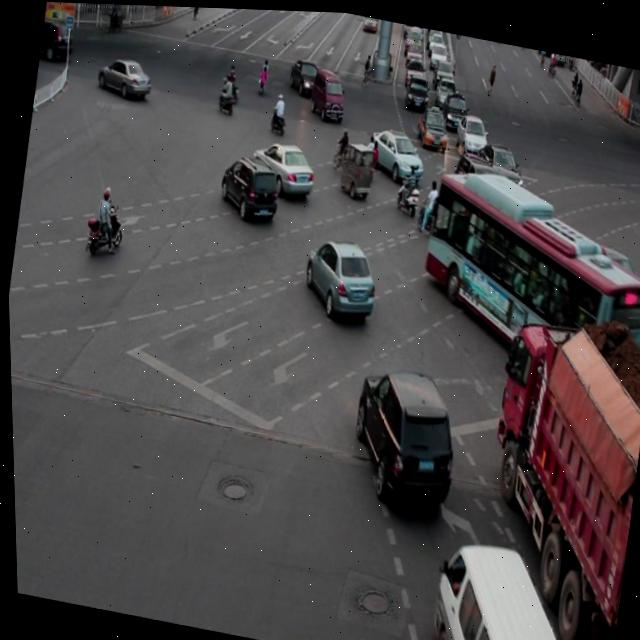bus: (460, 311, 640, 640)
car: (340, 355, 464, 508), (297, 230, 381, 322), (572, 232, 640, 310), (215, 149, 282, 223), (248, 135, 317, 198), (447, 148, 504, 211), (367, 124, 427, 183), (473, 136, 527, 190)
truck: (417, 527, 591, 640)
van: (407, 163, 640, 387)
